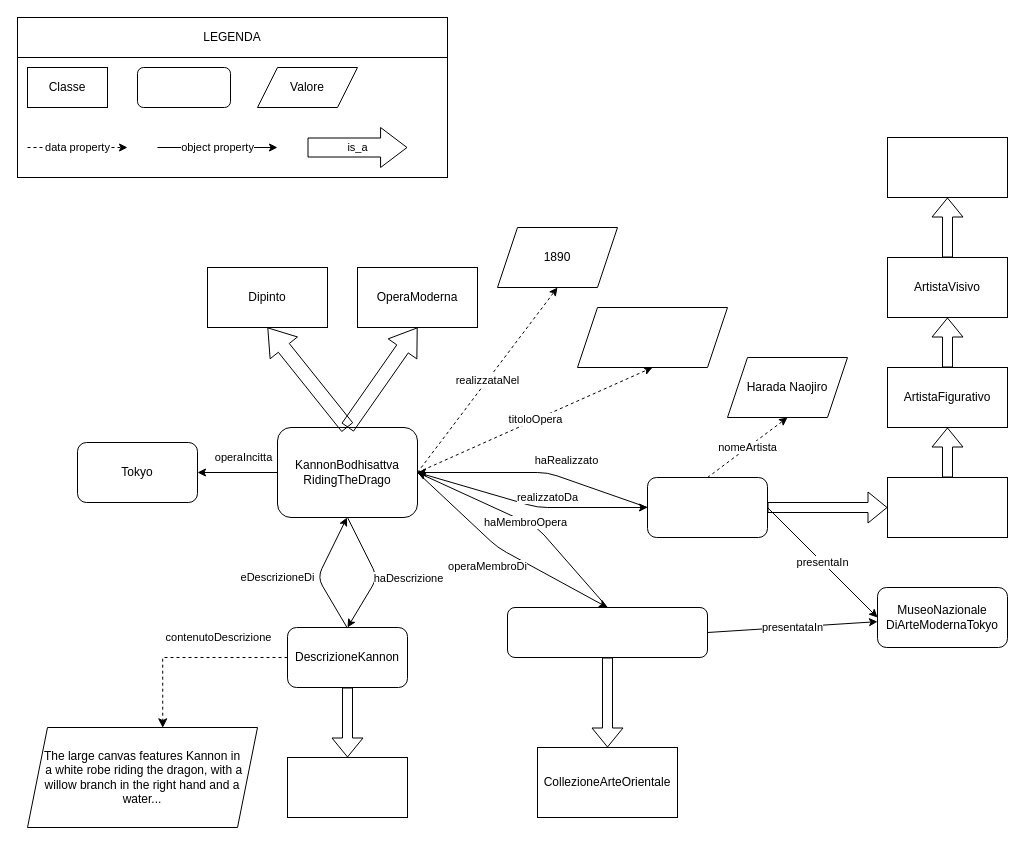
Image size: 1025x845. Some labels were removed from this diagram. The centre of each missing label's shape, as x and y in pixels:
"Artista" goes at pixel 947 167.
"Descrizione" goes at pixel 347 787.
"EsposizioneTempioGokokuji" goes at pixel 607 632.
"HaradaNaojiro" goes at pixel 707 507.
"Individuo" goes at pixel 183 87.
"Kannon Bodhisattava Riding The Drago" goes at pixel 652 337.
"Pittore" goes at pixel 947 507.
